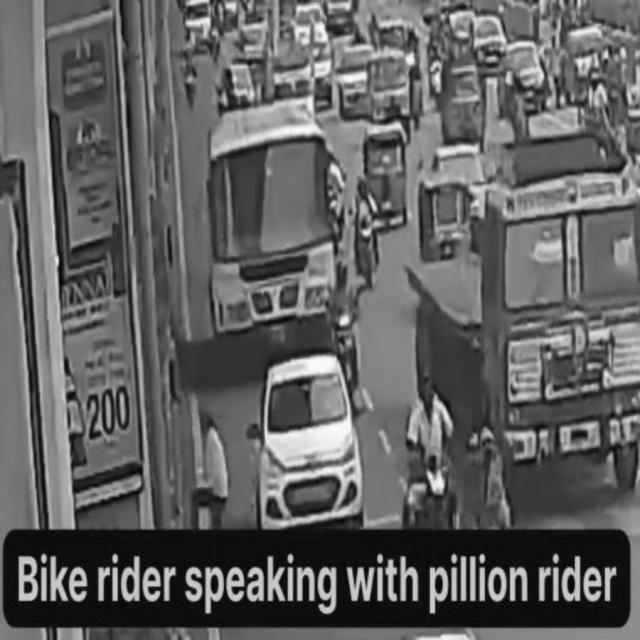person: (193, 412, 231, 542)
vehicle: (479, 186, 639, 494), (208, 114, 334, 338), (258, 367, 366, 527), (405, 368, 463, 533), (350, 176, 380, 296), (335, 259, 360, 397)
